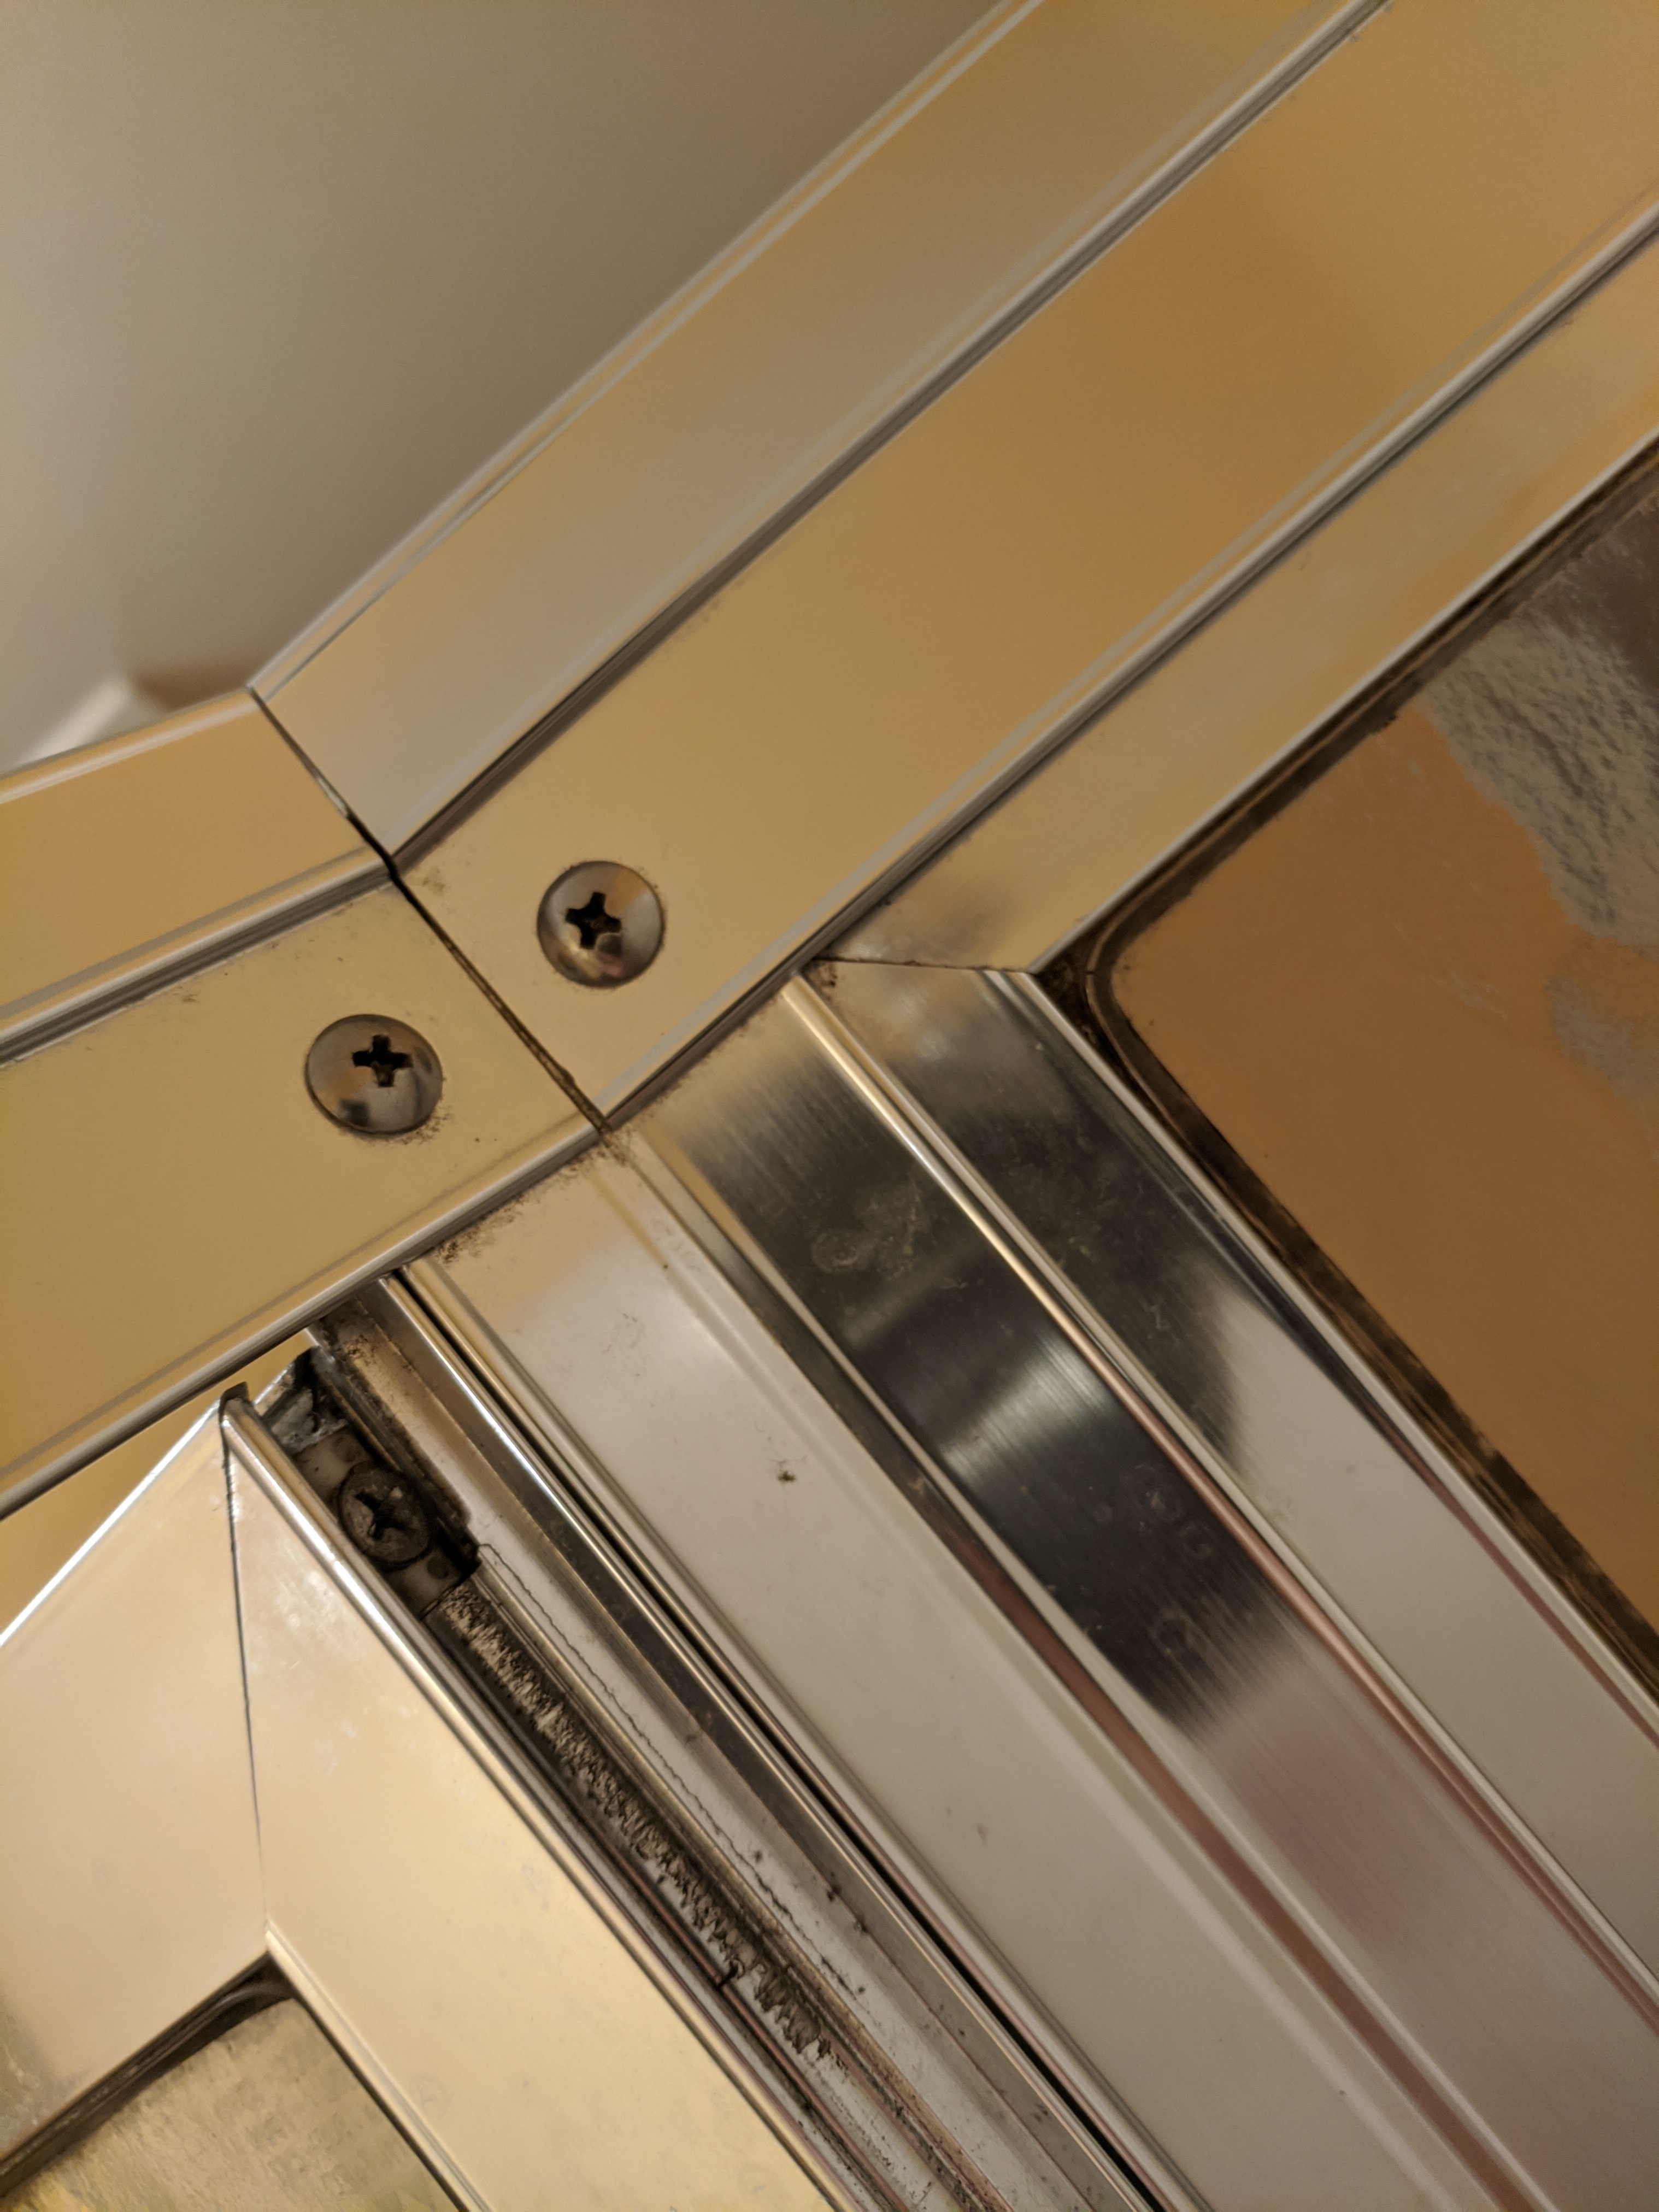cross_recessed_screw: (530, 850, 674, 977), (303, 993, 443, 1123)
